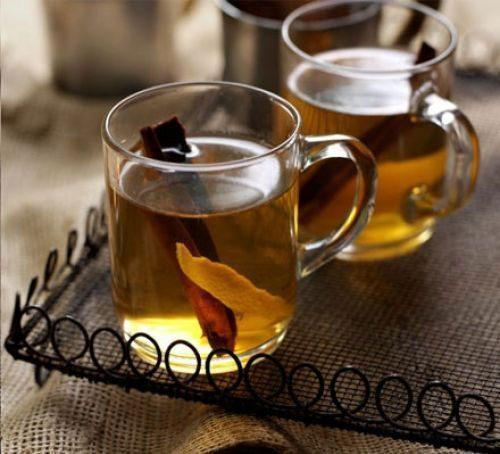glass-mug: (101, 79, 380, 373), (280, 1, 484, 264)
